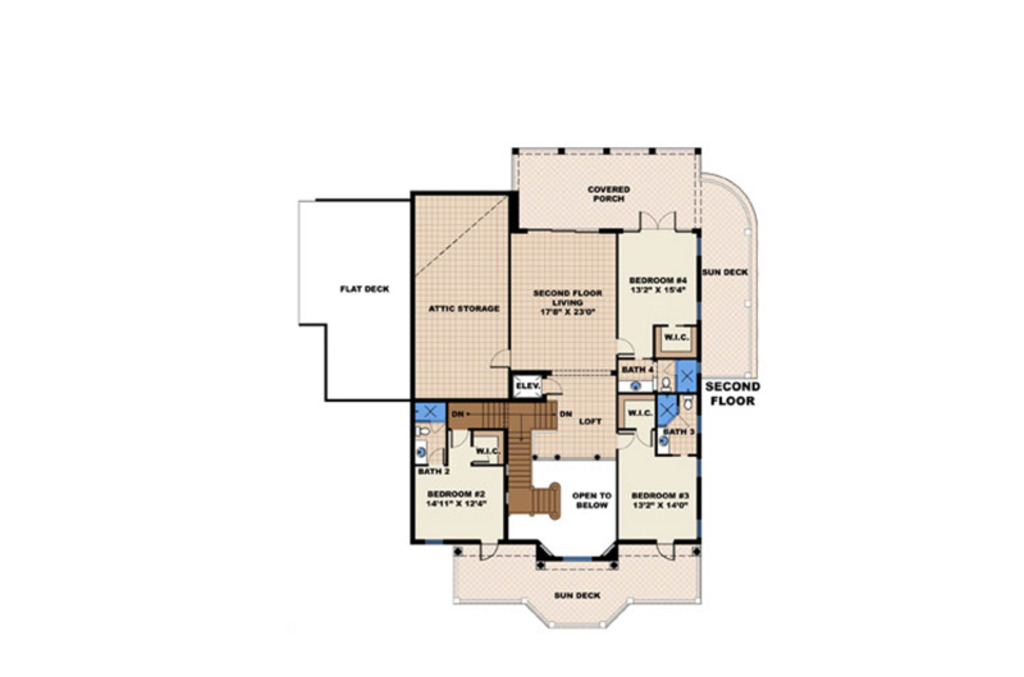door: (636, 209, 679, 234), (444, 426, 472, 450), (653, 539, 676, 563), (487, 346, 511, 369), (449, 427, 471, 450), (476, 540, 500, 559), (542, 377, 564, 397), (614, 335, 634, 356), (613, 430, 634, 450), (635, 428, 655, 448)
large_sink: (413, 423, 430, 439), (682, 395, 693, 411)
small_sink: (616, 376, 656, 393), (412, 440, 426, 463)
stairs: (471, 401, 566, 519)
